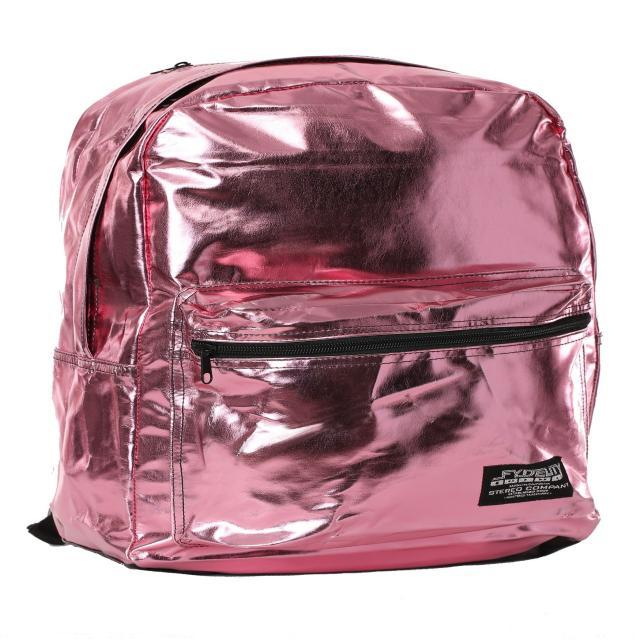Backpacks: (53, 49, 608, 582)
